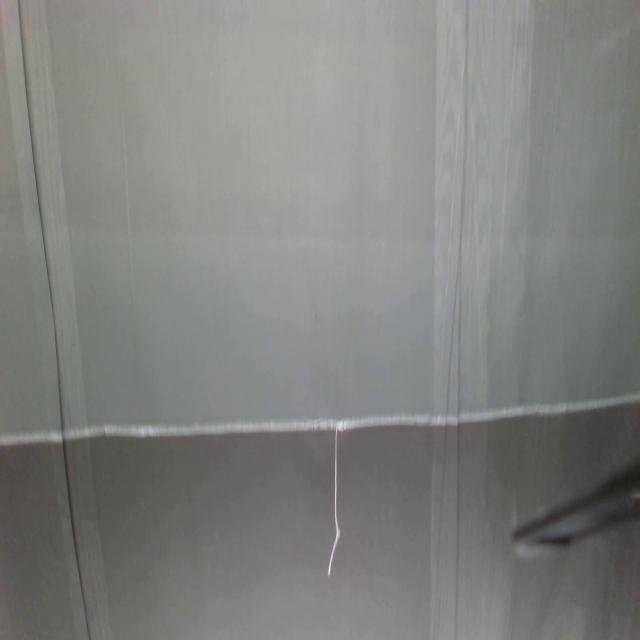crease: (13, 1, 100, 640), (434, 0, 477, 637)
